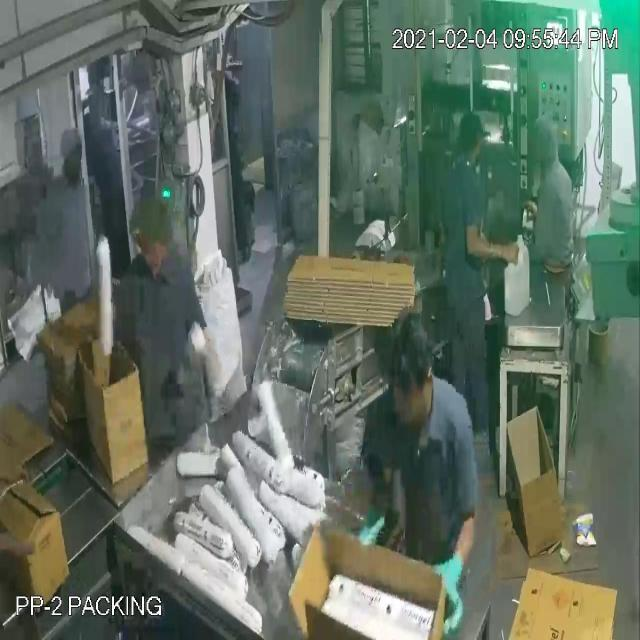Gloves: (50, 70, 500, 591)
